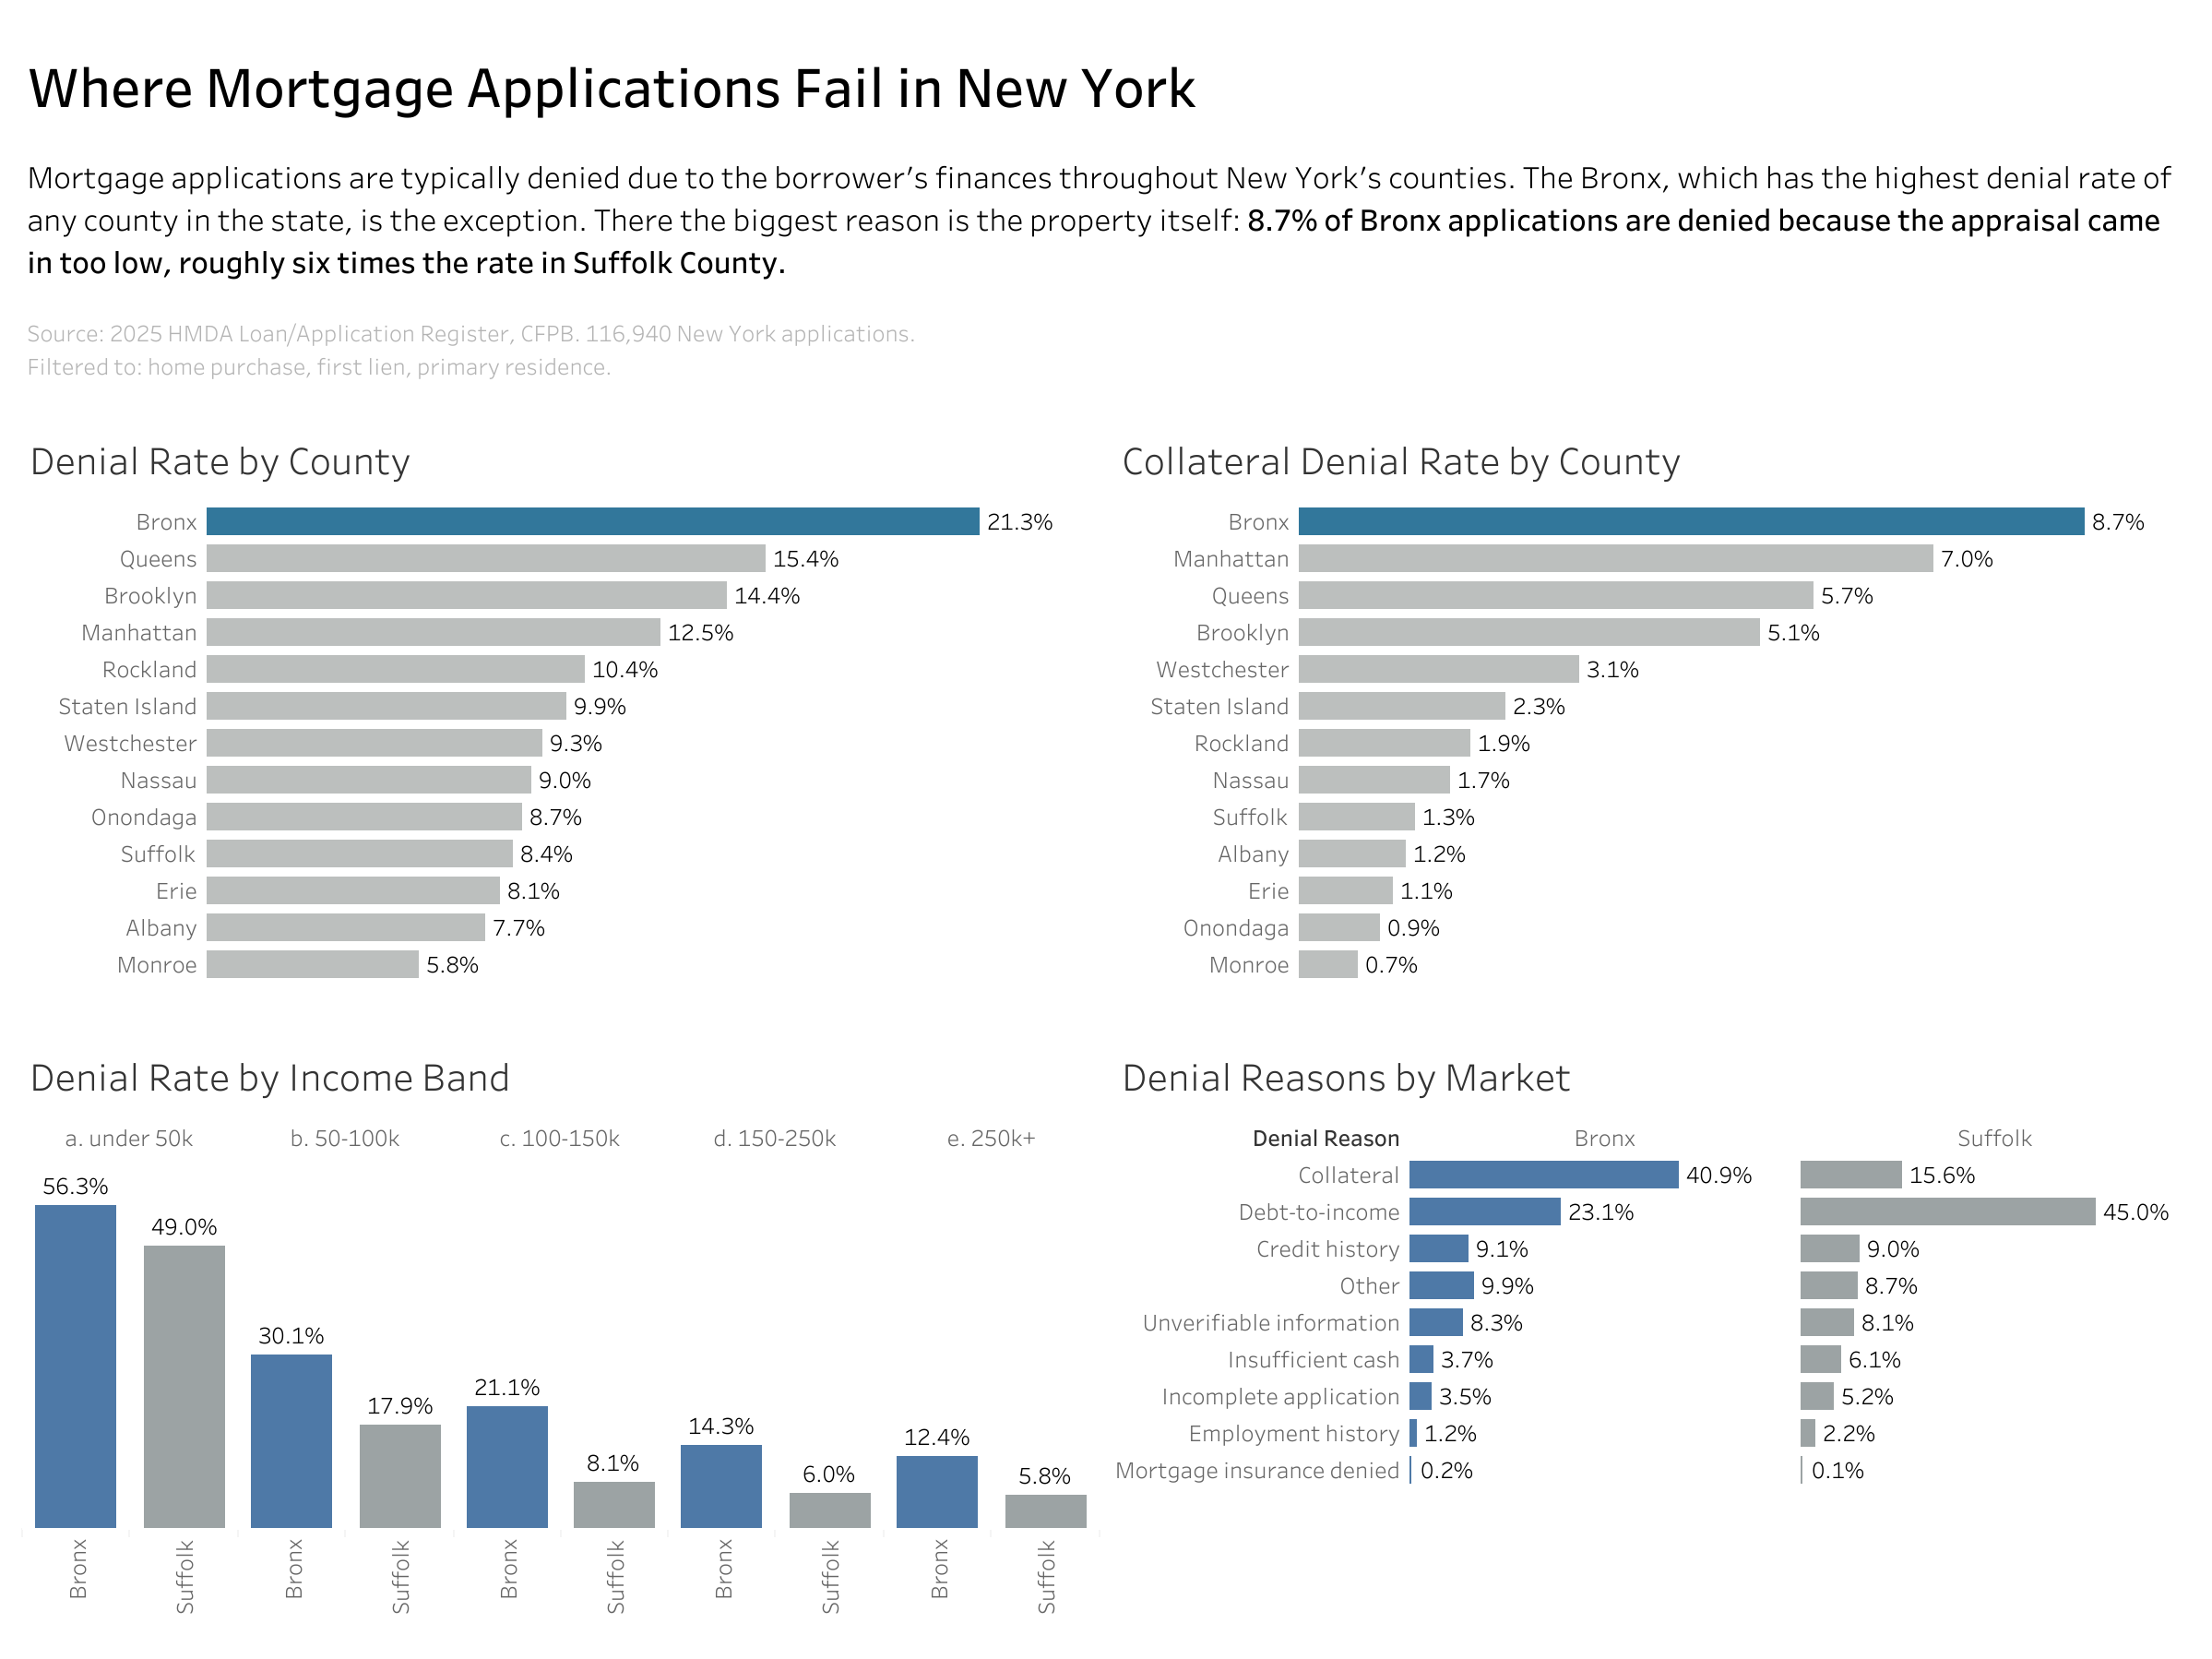

The page's visual inventory and layout, read from the dashboard file:
{"tool":"tableau","page":{"name":"Dashboard 1","canvas":[1200,900],"ordinal":0},"visuals":[{"type":"text","box":[8,8,1184,217]},{"type":"worksheet","title":"Denial Rate by County","mark":"Automatic","rows":["county_name"],"cols":["denied"],"box":[8,225,592,333.5]},{"type":"worksheet","title":"Collateral Denial Rate by County","mark":"Automatic","rows":["county_name"],"cols":["Calculation_4140728850313216"],"box":[600,225,592,333.5]},{"type":"worksheet","title":"Denial Rate by Income Band","mark":"Automatic","rows":["denied"],"cols":["income_band","county_name"],"box":[8,558.5,592,333.5]},{"type":"worksheet","title":"Denial Reasons by Market","mark":"Automatic","rows":["denial_reason"],"cols":["county_name"],"box":[600,558.5,592,333.5]}]}

Visuals, with their boxes in screenshot pixels (x1, y1, x2, y2), scaled from the page's 1200x900 canvas onto the 2212x1659 screenshot:
text: 15:15:2197:415
"Denial Rate by County" worksheet: 15:415:1106:1030
"Collateral Denial Rate by County" worksheet: 1106:415:2197:1030
"Denial Rate by Income Band" worksheet: 15:1030:1106:1644
"Denial Reasons by Market" worksheet: 1106:1030:2197:1644
